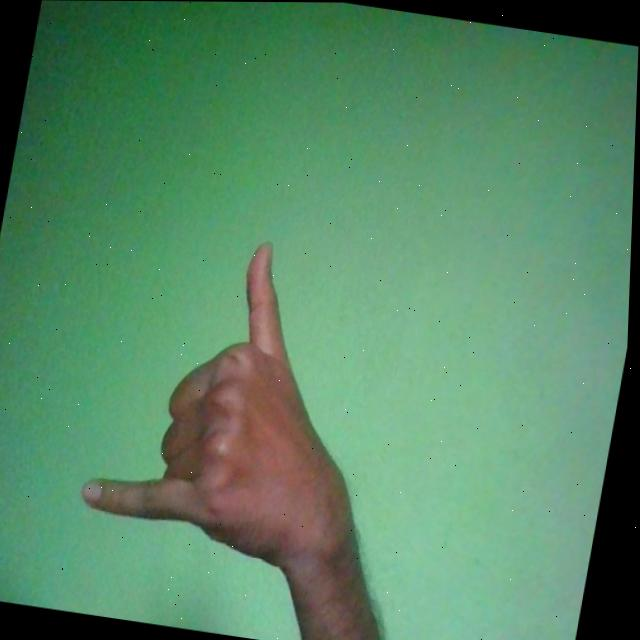Call Me: (77, 217, 411, 577)
